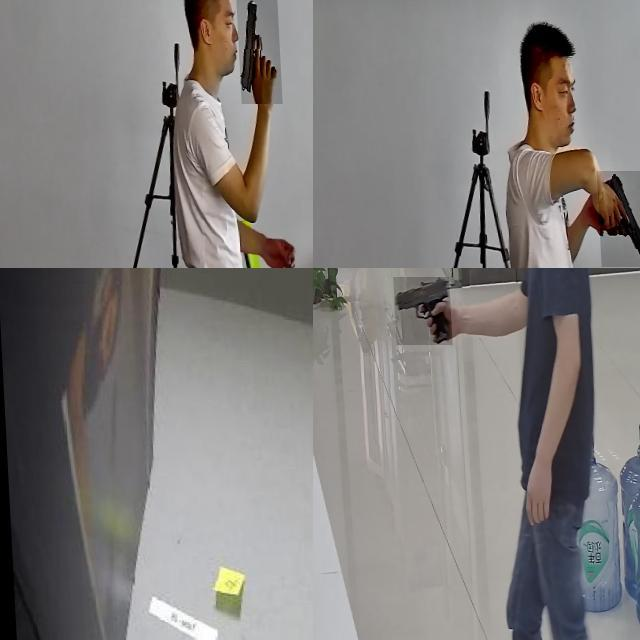gun-knife-thesis - v11 Yolov5 augmented: (234, 0, 279, 104), (593, 171, 640, 267), (391, 277, 450, 345)
